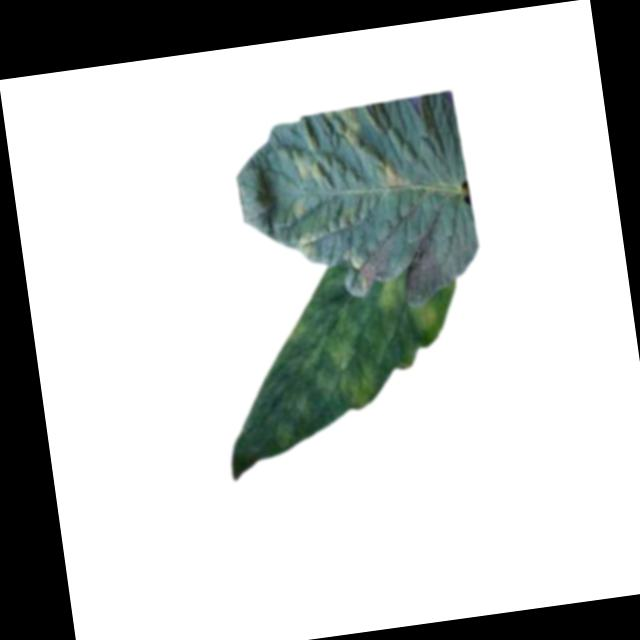Leaf_Mold: (311, 310, 359, 375), (321, 105, 367, 152), (369, 269, 411, 315), (288, 145, 328, 187), (339, 366, 376, 410), (374, 157, 408, 194), (292, 228, 328, 262), (409, 300, 441, 334), (285, 193, 314, 224)
